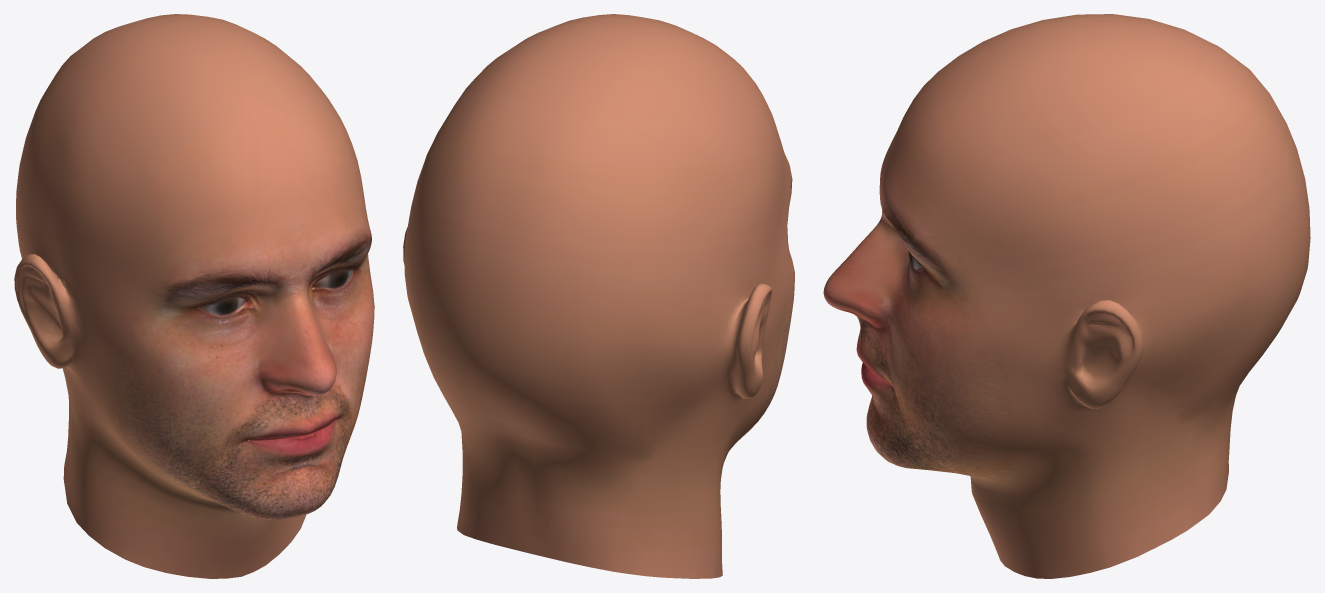
Rendered from MaleFace.obj.
3 views of the same model, side by side, from view 1: azimuth 30°, elevation 25°; view 2: azimuth 150°, elevation 25°; view 3: azimuth 270°, elevation 25° (orthographic). The views are drawn at different scales.
Parts seen in each view (by area): view 1: MaleFace; view 2: MaleFace; view 3: MaleFace.
Boxes of the visible parts, left/top/right/bottom form: MaleFace: left=14, top=14, right=374, bottom=578; MaleFace: left=403, top=14, right=794, bottom=578; MaleFace: left=823, top=14, right=1310, bottom=578.
Size of the model in its own units: 1.33 by 2 by 1.68.
Materials: 1 (1 with a texture image).
